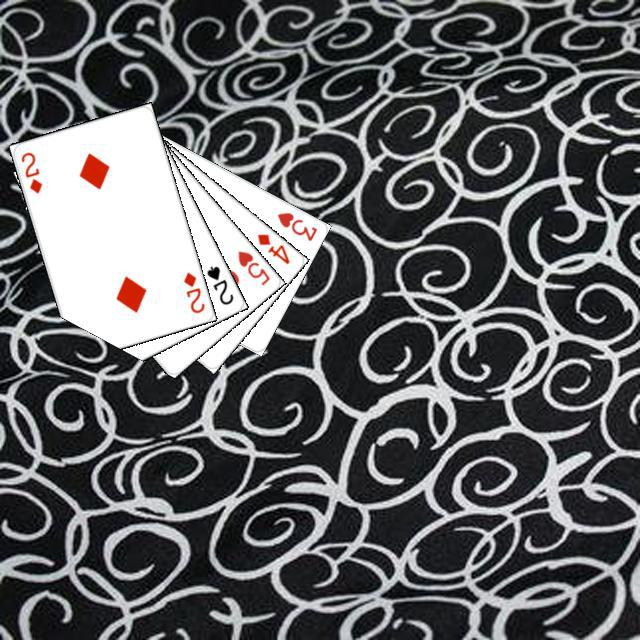2d: (178, 267, 206, 315), (16, 147, 44, 195)
2s: (201, 261, 235, 307)
3h: (272, 207, 319, 243)
4d: (252, 229, 291, 266)
5h: (233, 246, 272, 287)
